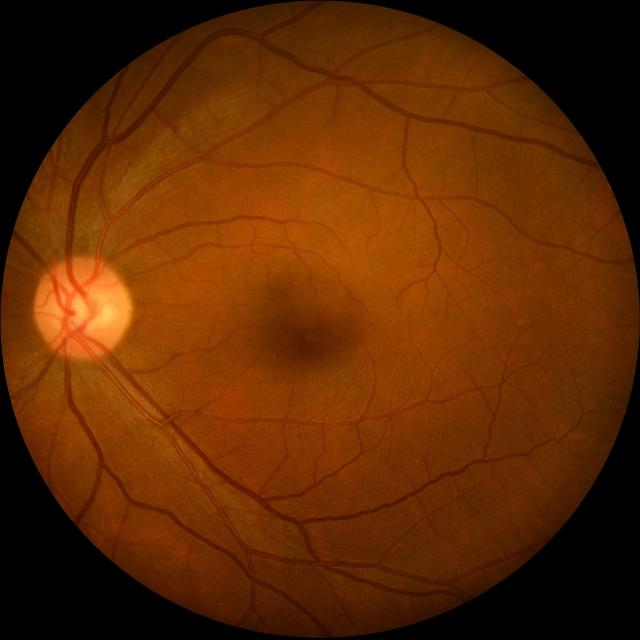OC: (62, 288, 114, 336)
OD: (32, 255, 130, 358)
